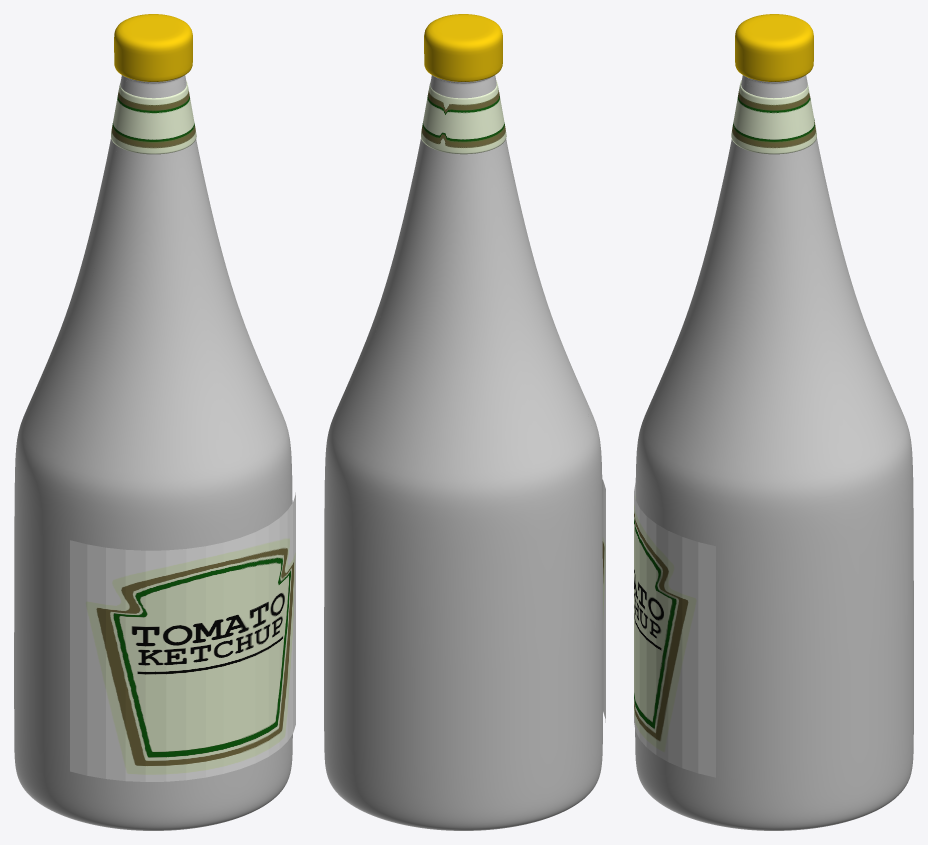
3 views of the same model, side by side, from view 1: azimuth 30°, elevation 25°; view 2: azimuth 150°, elevation 25°; view 3: azimuth 270°, elevation 25° (orthographic).
Visible parts, largest first — view 1: Cylinder_4, lABAL_3, Cylinder.001_0, Cylinder.002_1; view 2: Cylinder_4, Cylinder.001_0, Cylinder.002_1, lABAL_3; view 3: Cylinder_4, lABAL_3, Cylinder.001_0, Cylinder.002_1.
Part boxes in pixels (left/top/right/bottom): Cylinder_4: left=14, top=75, right=292, bottom=830; lABAL_3: left=70, top=492, right=295, bottom=781; Cylinder.001_0: left=114, top=14, right=192, bottom=81; Cylinder.002_1: left=111, top=81, right=196, bottom=154; Cylinder_4: left=324, top=75, right=602, bottom=830; Cylinder.001_0: left=424, top=14, right=502, bottom=81; Cylinder.002_1: left=421, top=81, right=506, bottom=154; lABAL_3: left=602, top=479, right=605, bottom=722; Cylinder_4: left=635, top=75, right=913, bottom=830; lABAL_3: left=634, top=483, right=715, bottom=777; Cylinder.001_0: left=735, top=14, right=813, bottom=81; Cylinder.002_1: left=731, top=80, right=816, bottom=154.
Size of the model in its own units: 1.79 by 5.31 by 1.8.
5 materials, 2 textured.
